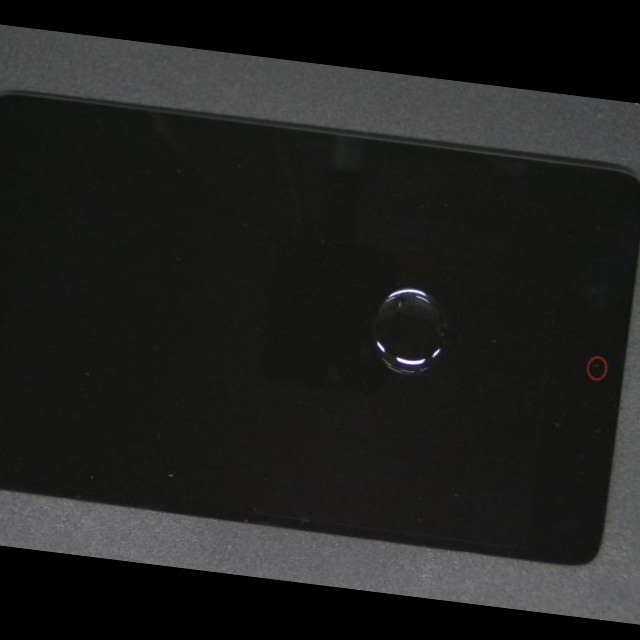oil: (184, 157, 640, 427)
